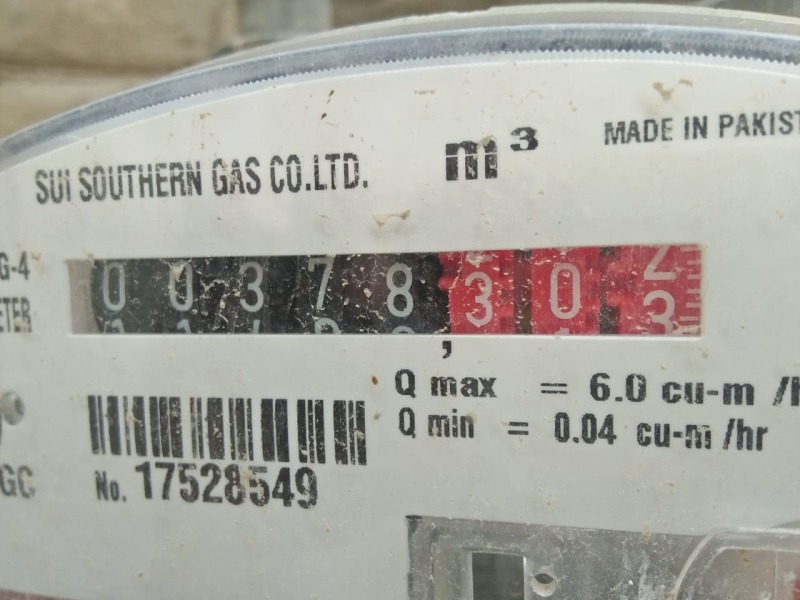ssgc: (60, 246, 704, 340)
